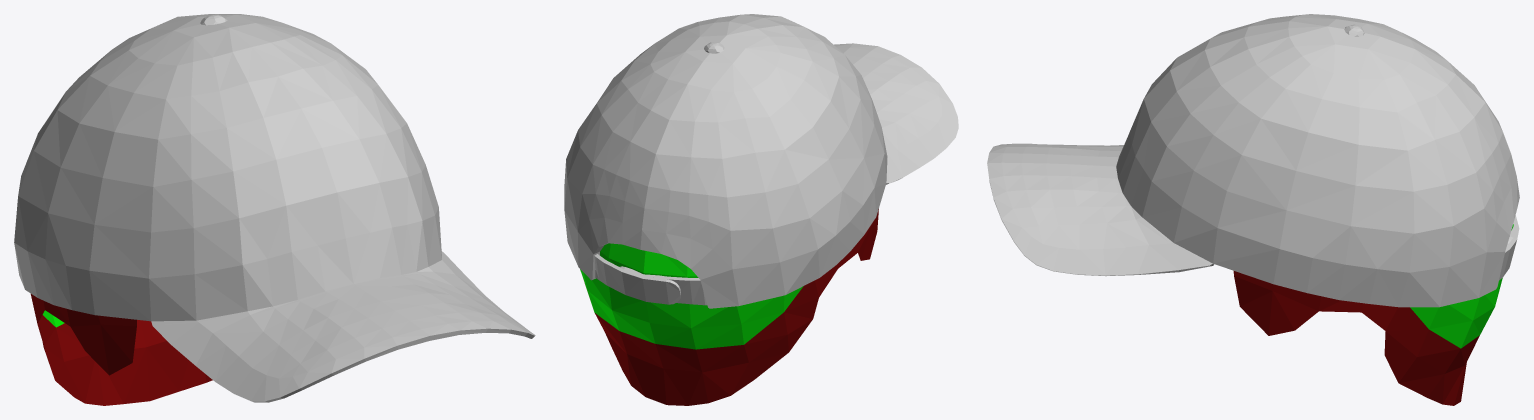
File: BaseballHat_Hair_03.obj
3 renders of one model, left to right at view 1: azimuth 30°, elevation 25°; view 2: azimuth 150°, elevation 25°; view 3: azimuth 270°, elevation 25°, orthographic. The views are drawn at different scales.
Bounding box in the file's own units: 16.61 × 19.73 × 26.01.
